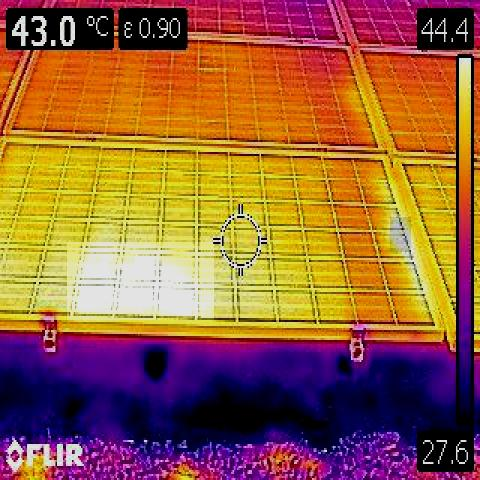fault: (67, 242, 214, 320), (390, 217, 411, 252)
